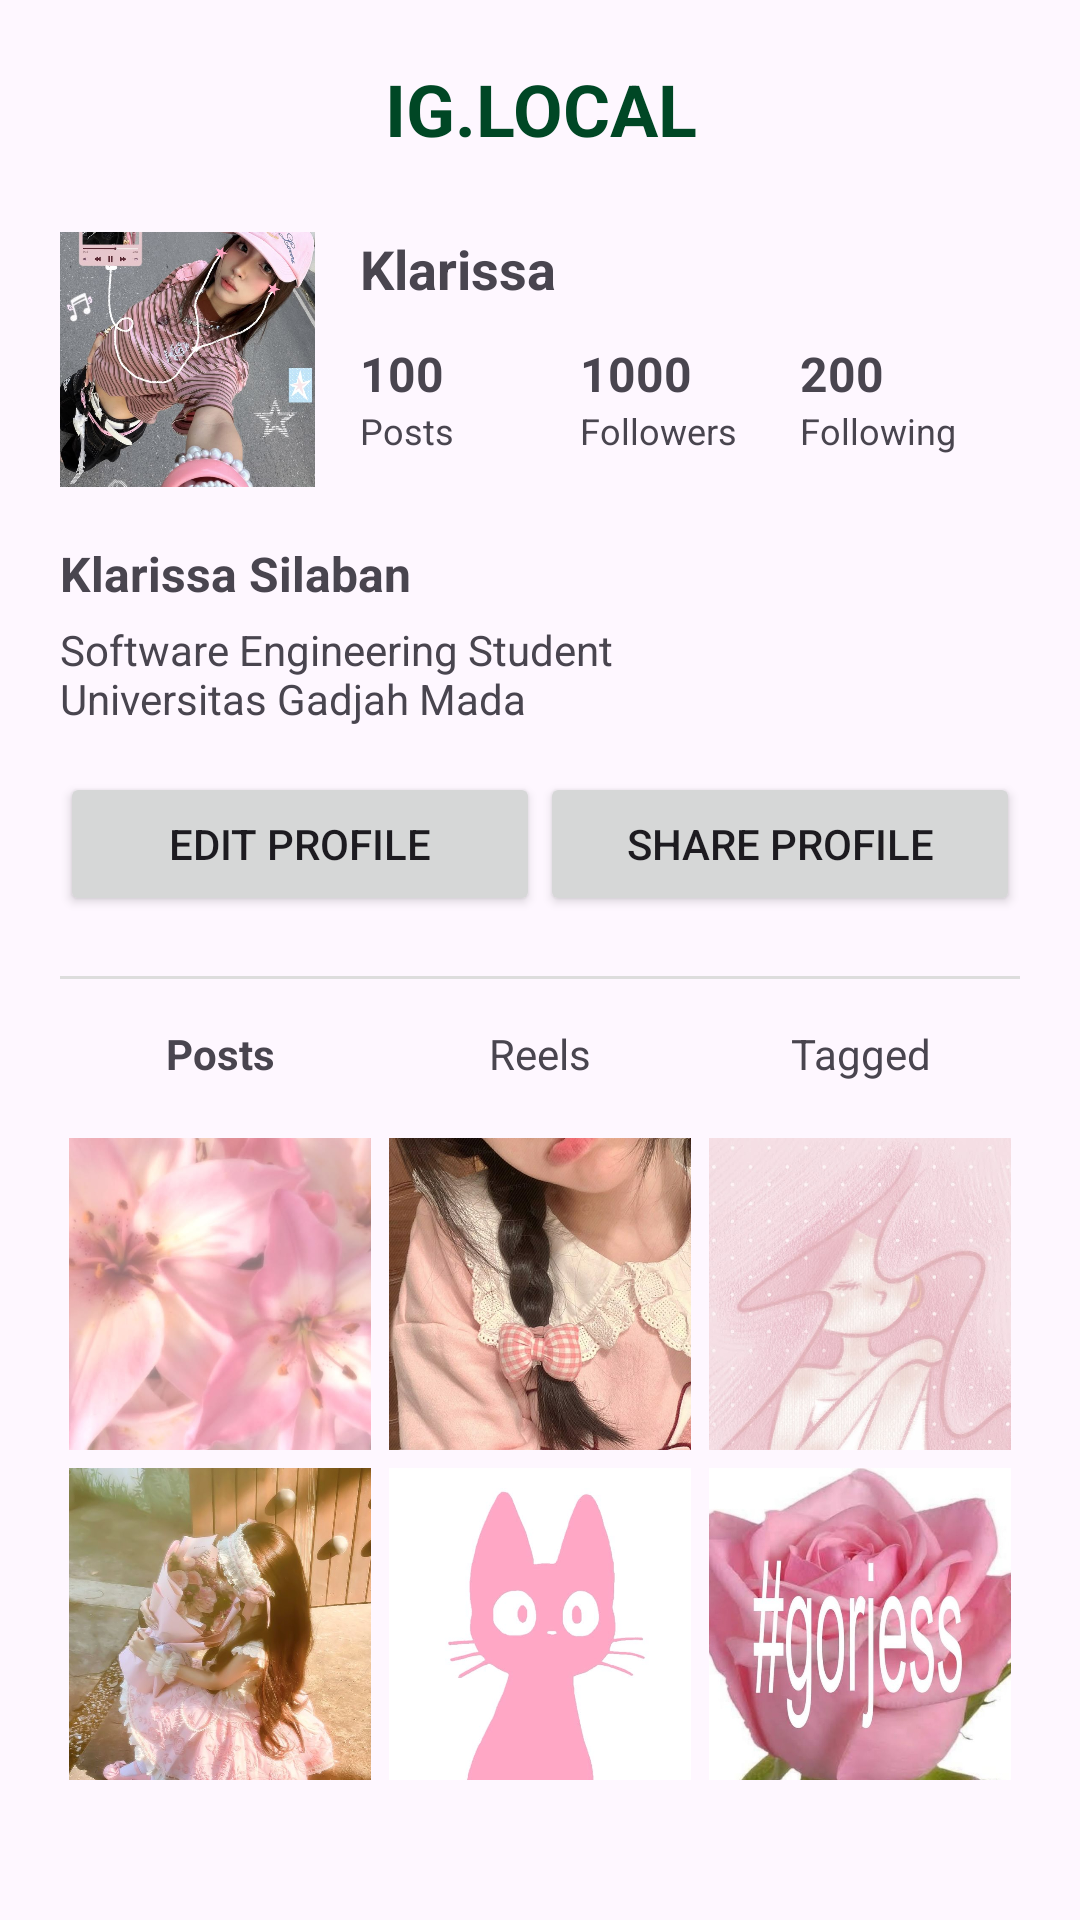

Screen size 1080px x 1920px. Icon name, then its box in pixels as (x1, y1, x2, y2):
Foto profil: (60, 232, 315, 487)
